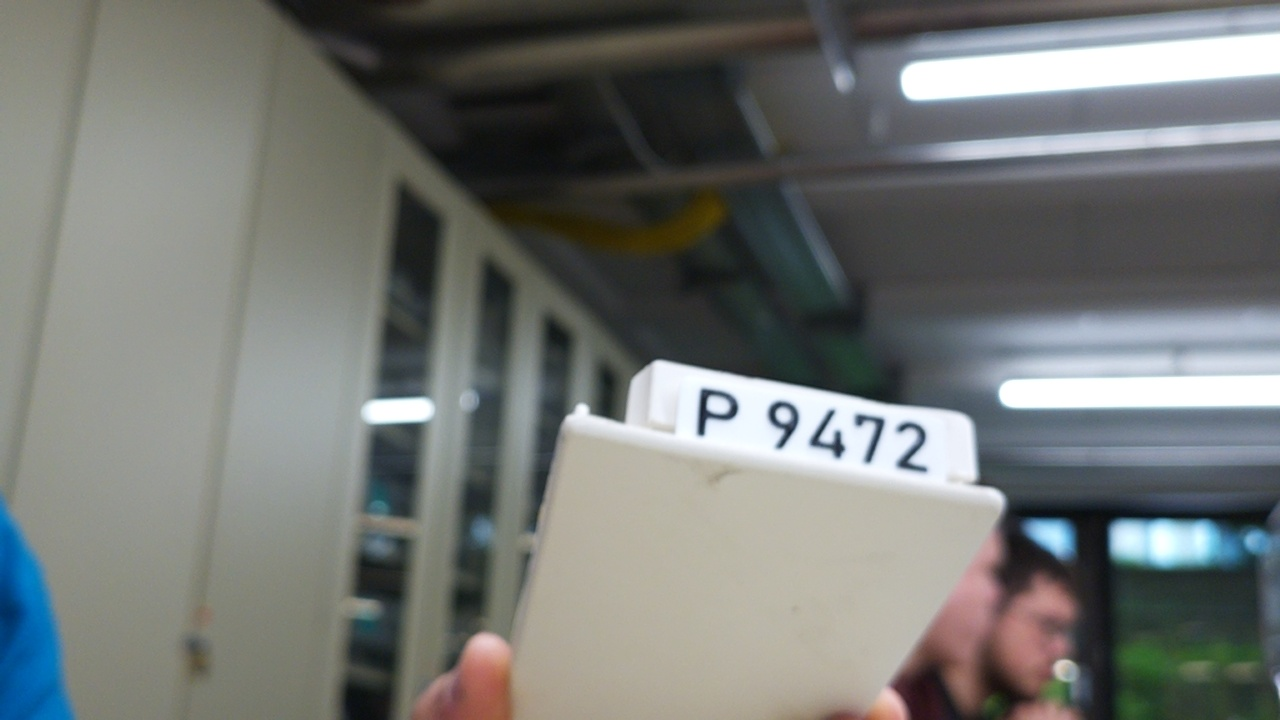license_plate: (673, 372, 954, 483)
